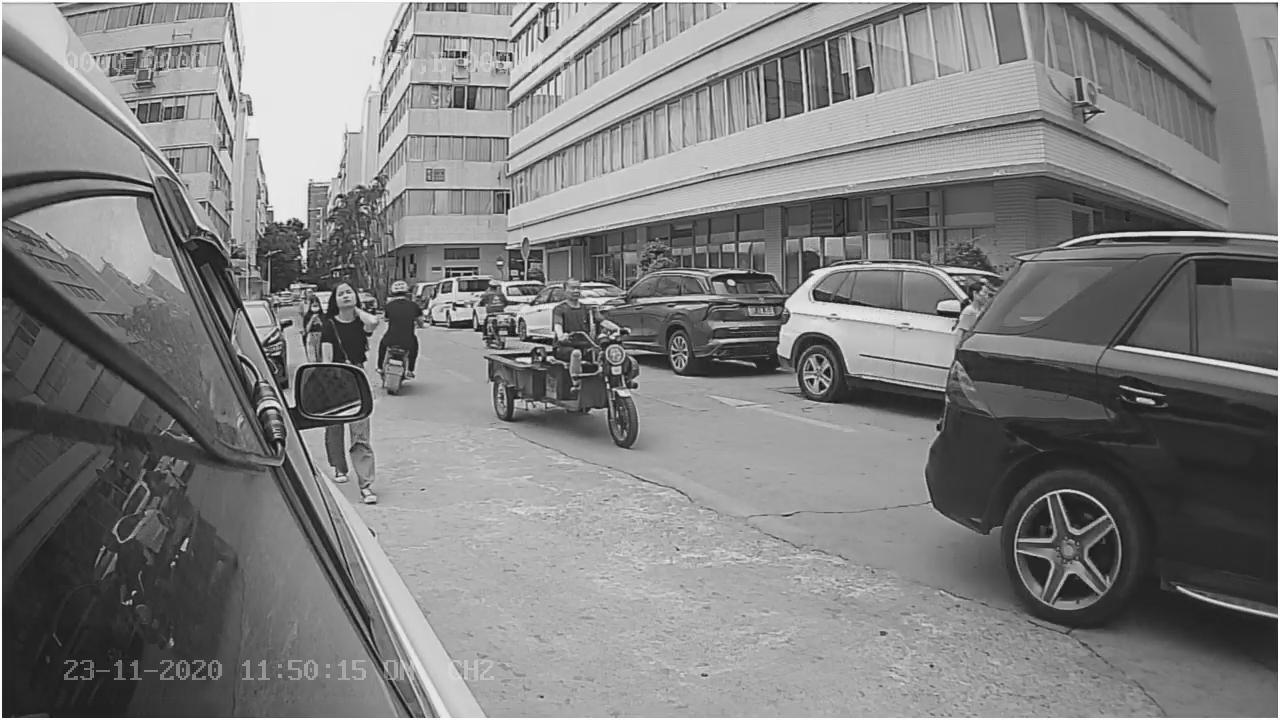person: (305, 278, 386, 363)
